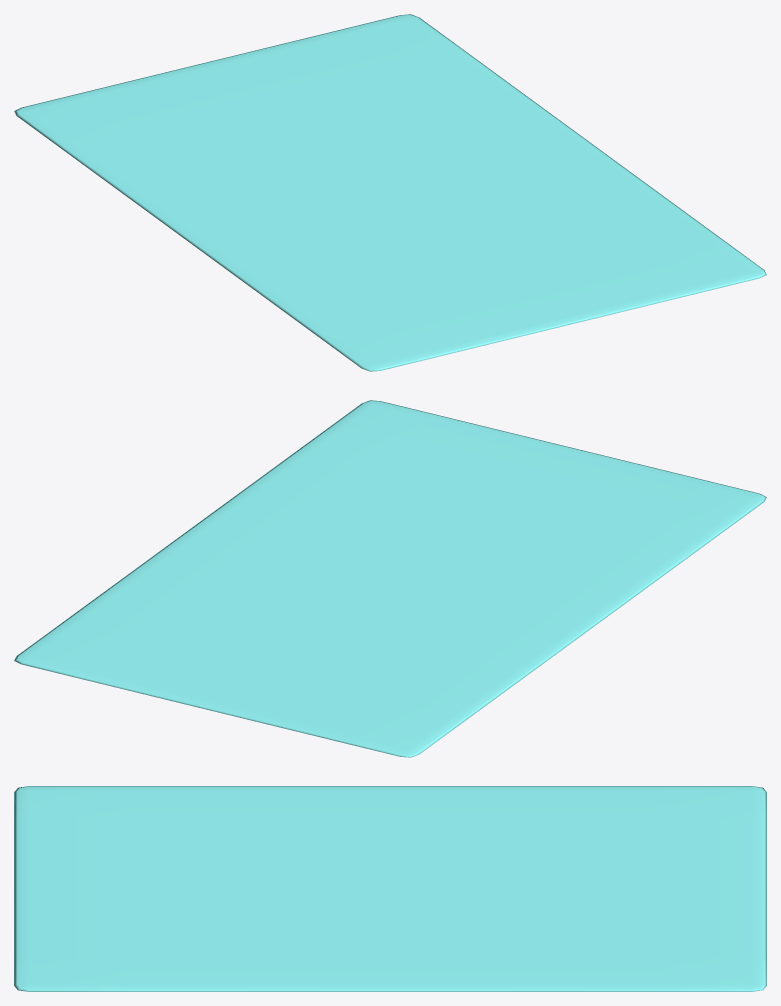
File: id_card.fbx
3 views of the same model, one above another, from view 1: azimuth 30°, elevation 25°; view 2: azimuth 150°, elevation 25°; view 3: azimuth 270°, elevation 25° (orthographic). The views are drawn at different scales.
Parts seen in each view (by area): view 1: id_card; view 2: id_card; view 3: id_card.
Part boxes in pixels (x1,y1,x2,y2): id_card: (14,14,766,371); id_card: (14,400,766,757); id_card: (14,786,766,991).
Size of the model in its own units: 5.5 by 8.5 by 0.0302.
